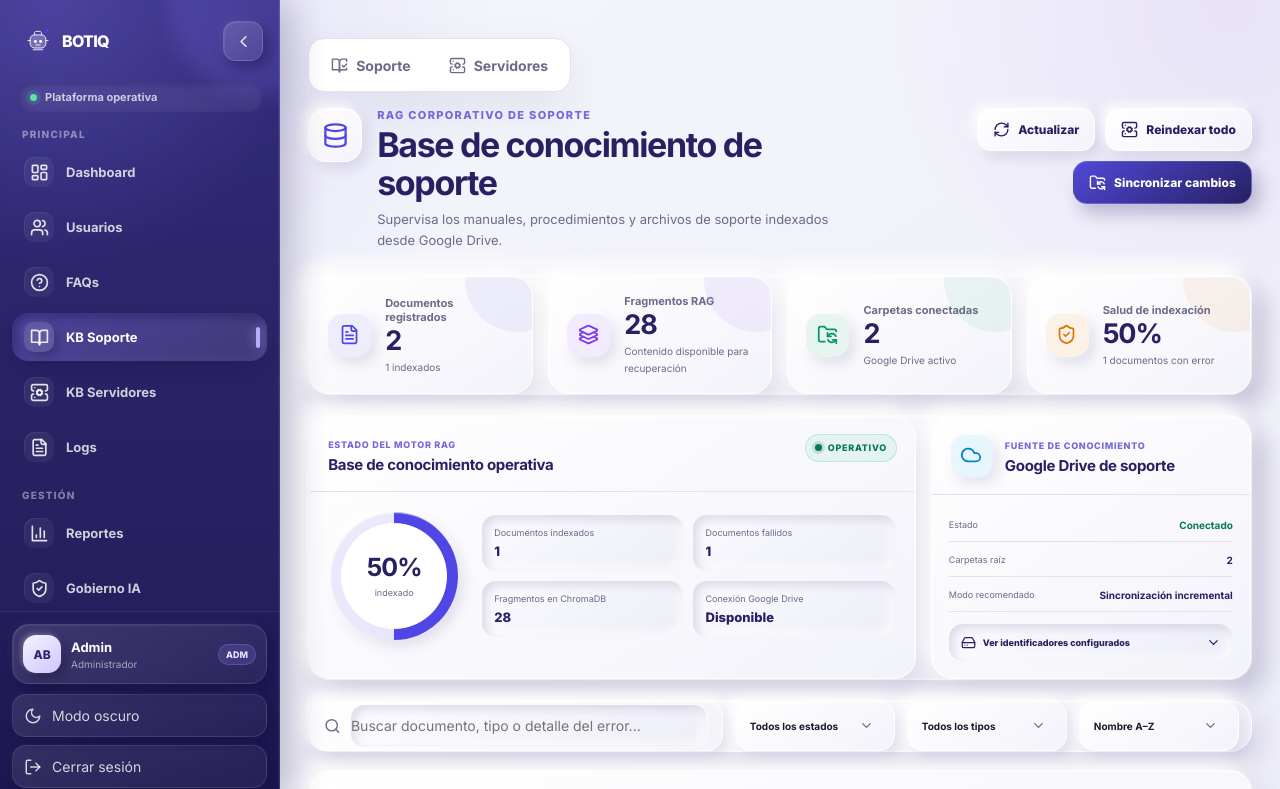
it: KnowledgeBasePage profesional › abre la confirmación de sincronización incremental
Click the button "Sincronizar cambios" at (1162, 182), box top-left (1073, 161), bottom-right (1252, 204)
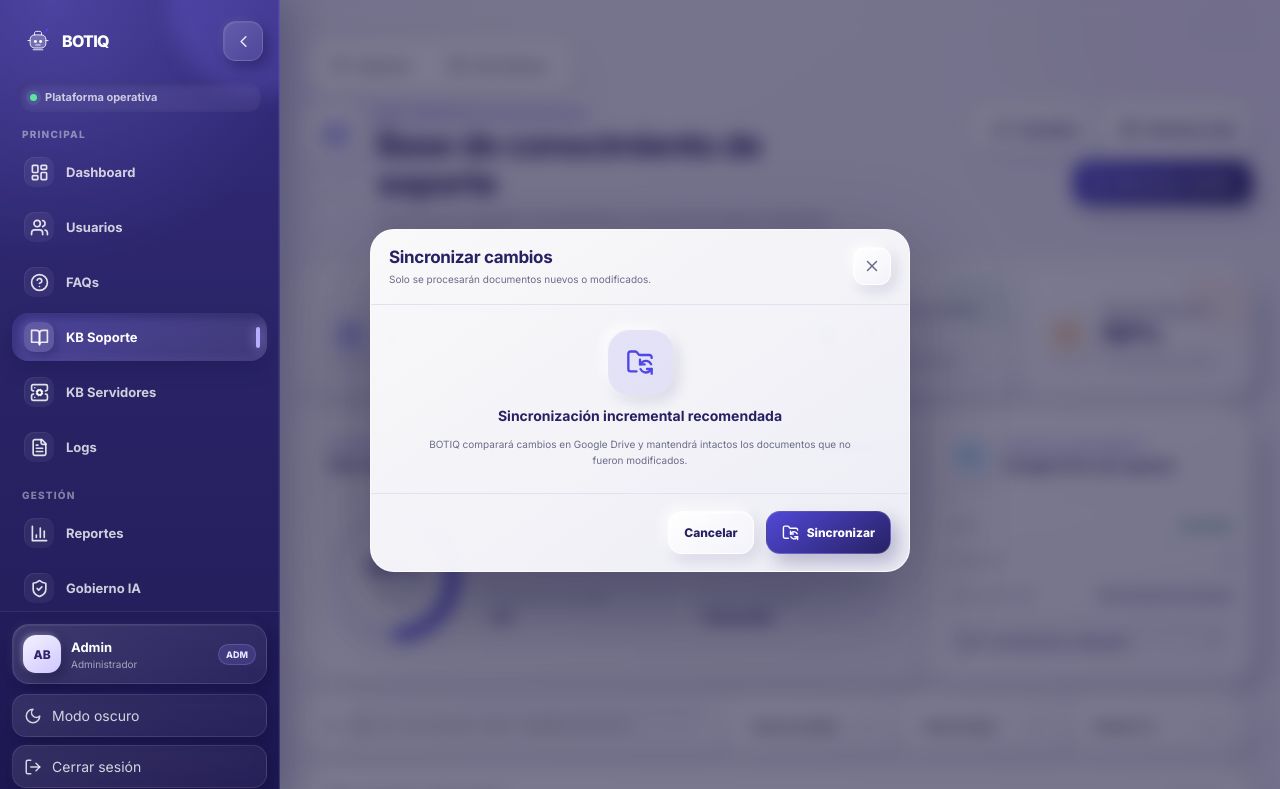
expect the dialog is shown: met, box top-left (370, 228), bottom-right (910, 572)
expect the heading "Sincronización incremental recomendada" is shown: met, box top-left (498, 406), bottom-right (782, 424)
